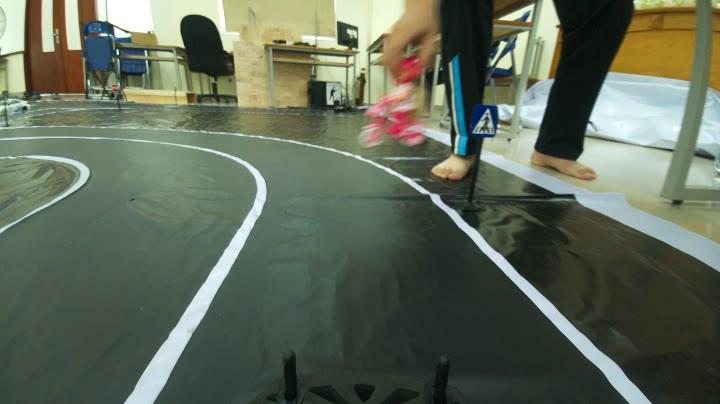crosswalk: (470, 102, 501, 142)
